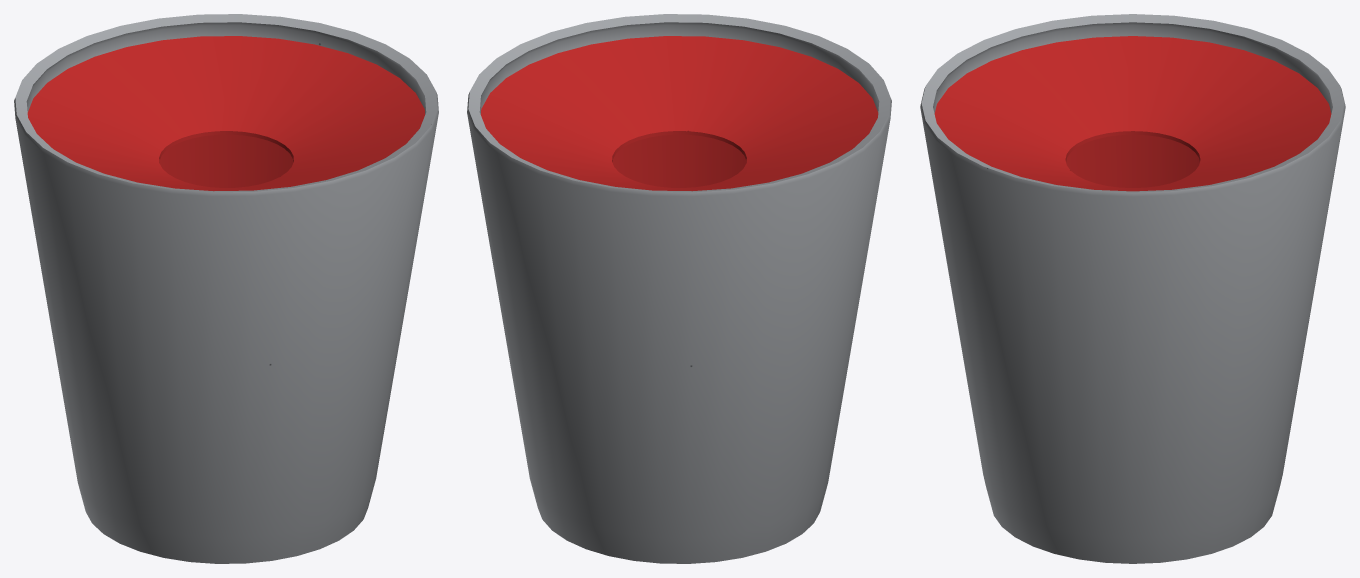
Rendered from bucket.fbx.
The picture shows the model from 3 angles, left to right: view 1: azimuth 30°, elevation 25°; view 2: azimuth 150°, elevation 25°; view 3: azimuth 270°, elevation 25°; orthographic projection.
Parts seen in each view (by area): view 1: bucket; view 2: bucket; view 3: bucket.
Boxes of the visible parts, x1=… form: bucket: x1=14, y1=14, x2=438, y2=563; bucket: x1=467, y1=14, x2=891, y2=563; bucket: x1=920, y1=14, x2=1345, y2=563.
Size of the model in its own units: 0.3357 by 0.3486 by 0.3357.
Materials: 1 (1 with a texture image).
